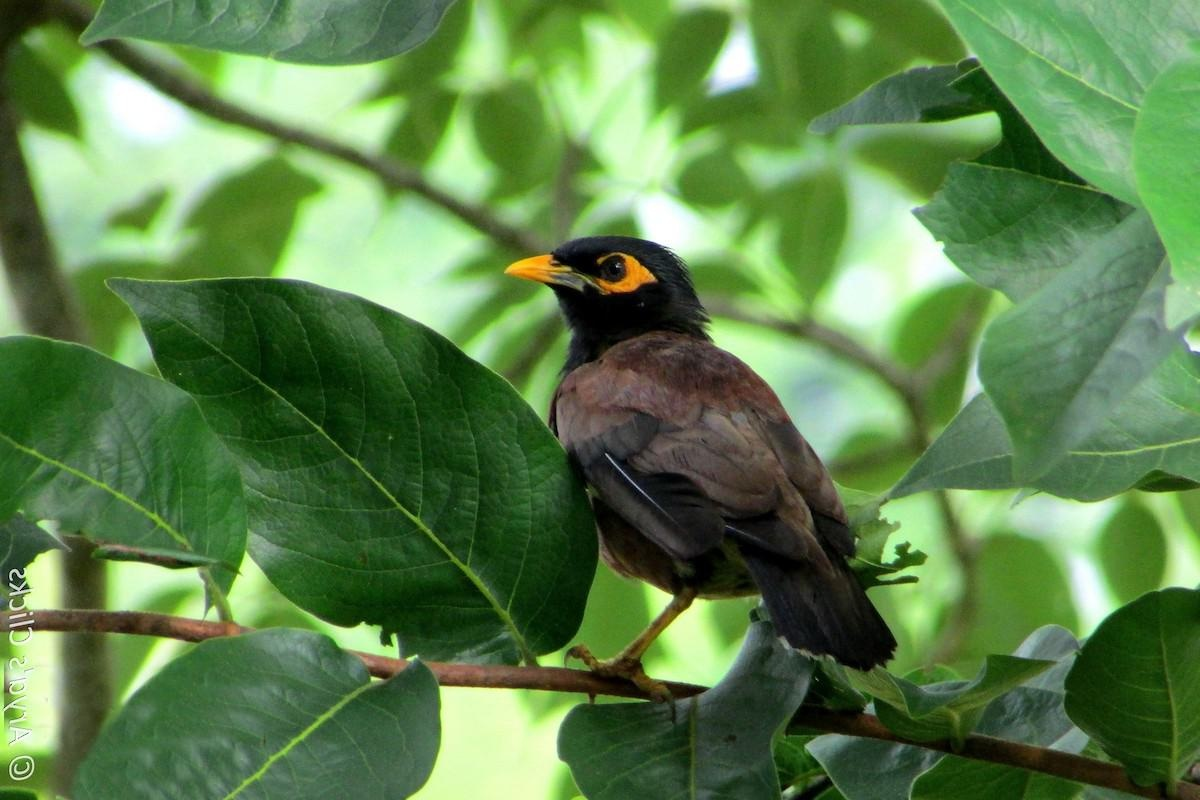myna: (515, 198, 936, 698)
